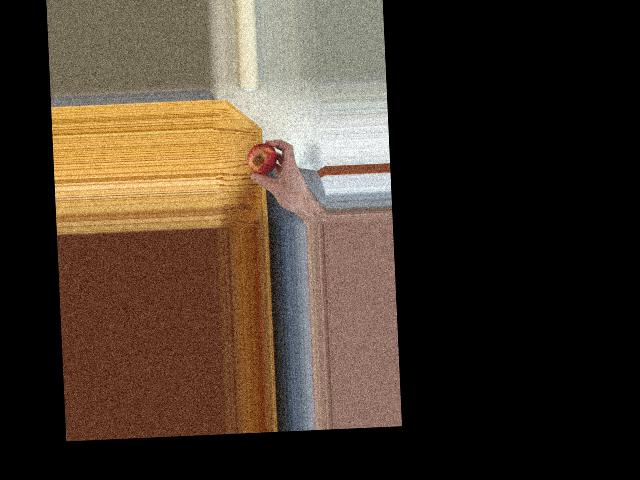apple: (244, 139, 283, 183)
